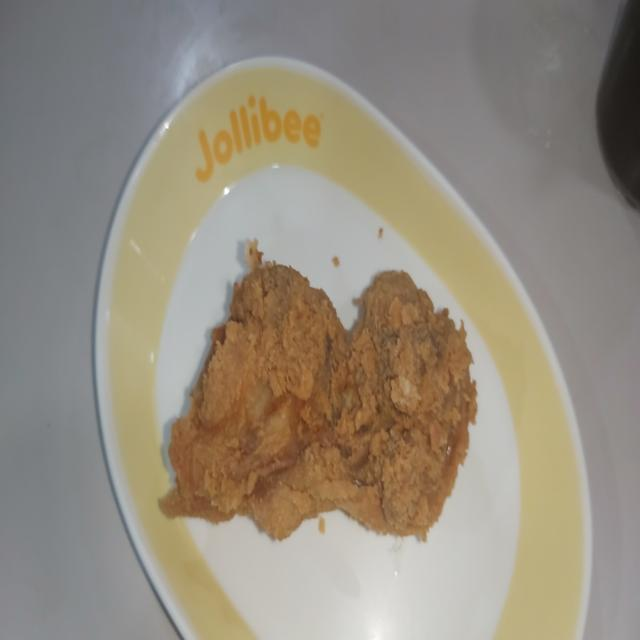Chicken -Fried Chicken-: (157, 249, 482, 555)
